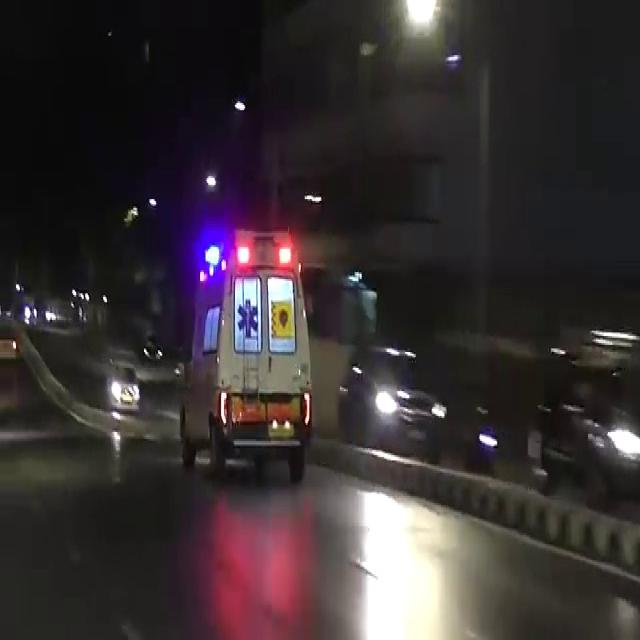ambulance: (184, 198, 317, 472)
